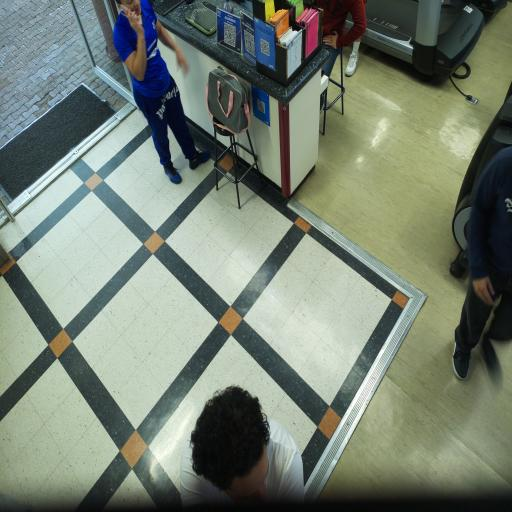person: (114, 0, 209, 183), (180, 387, 304, 506), (453, 147, 511, 379), (315, 0, 366, 76)
